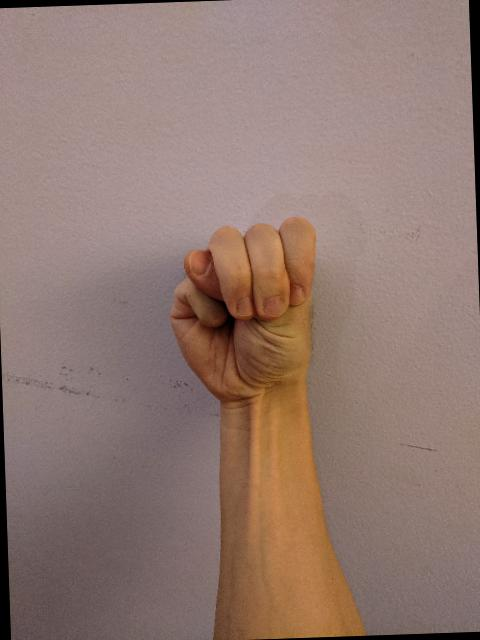M: (160, 205, 330, 412)
